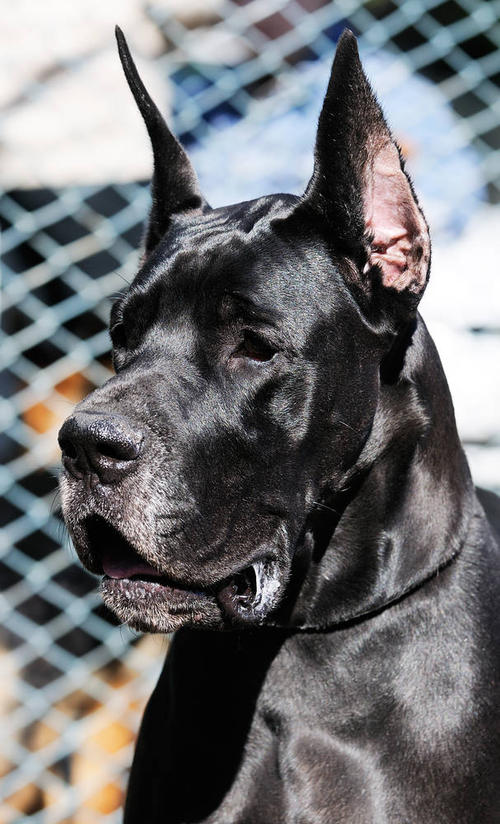dog: (34, 55, 478, 639)
